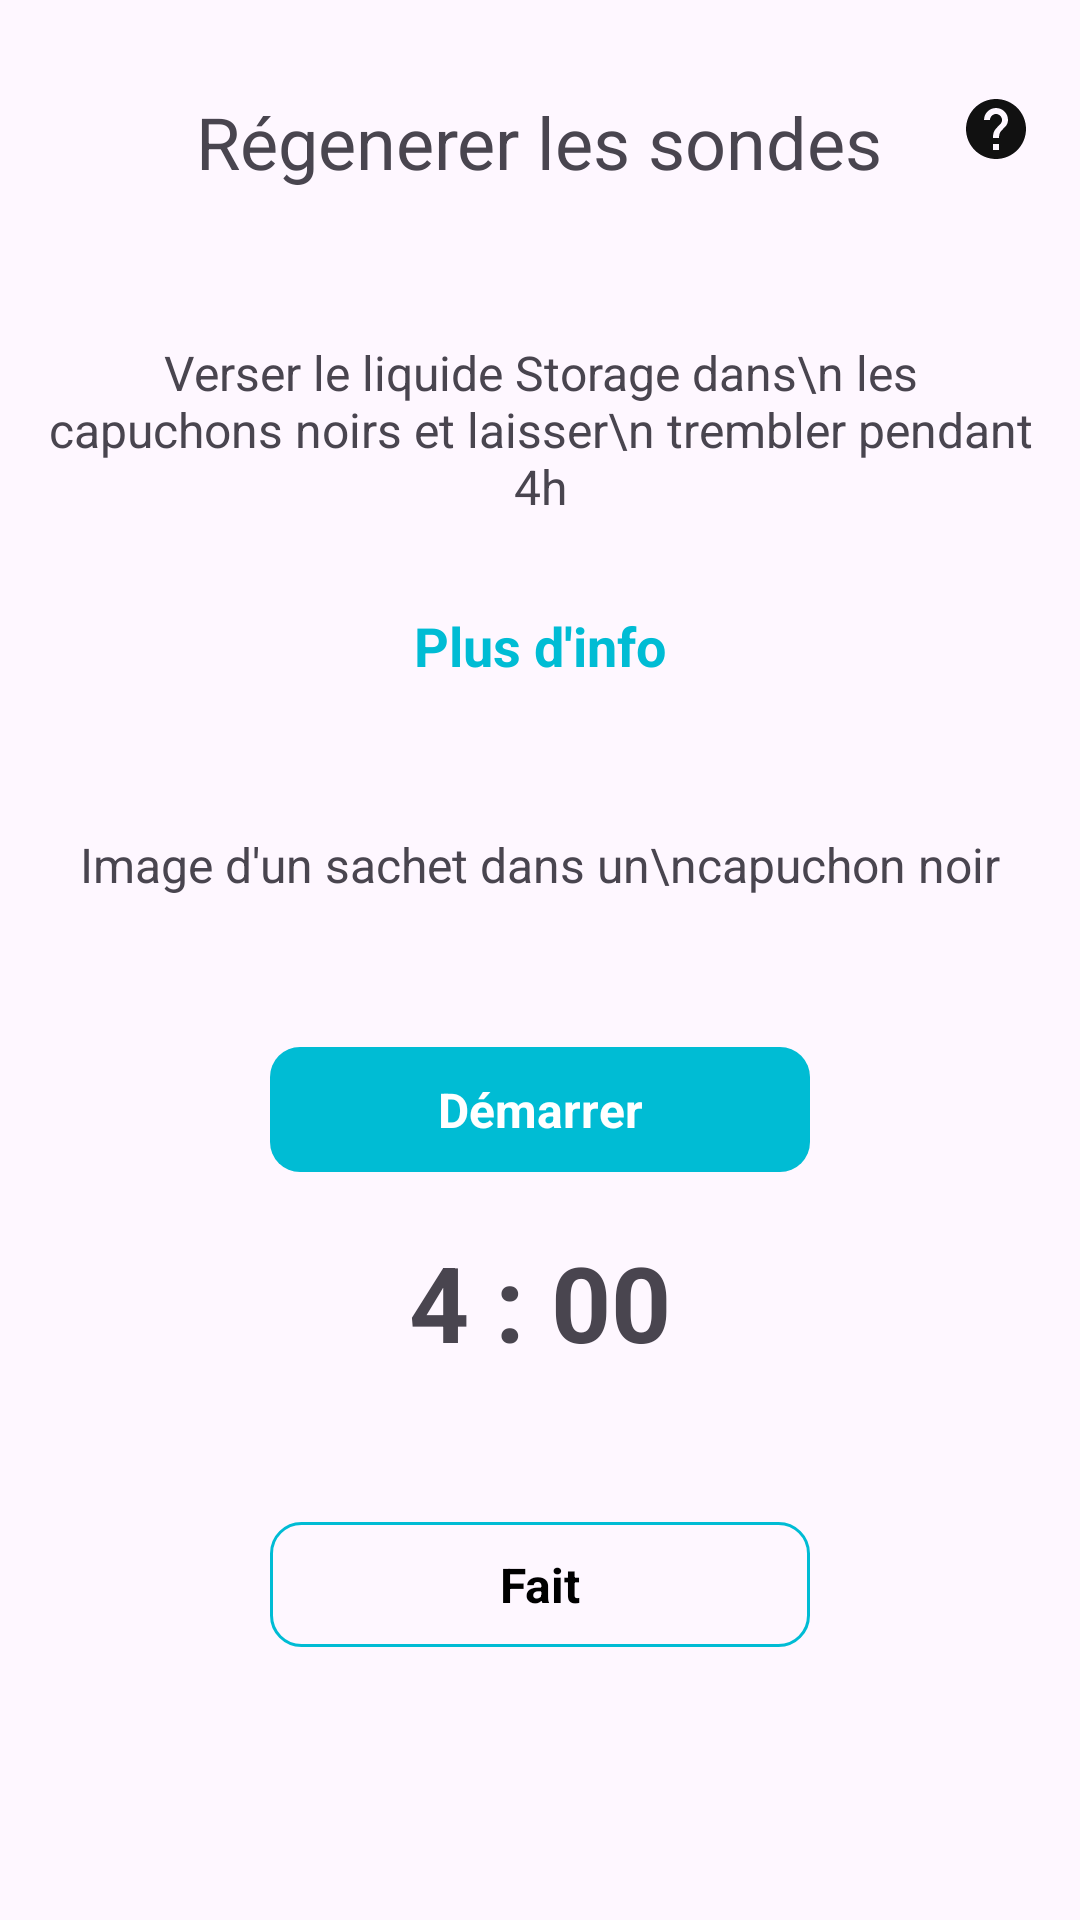

Icon click points for this 1080x1920 phone screenshot, format [x,y]:
help: [996,129]
